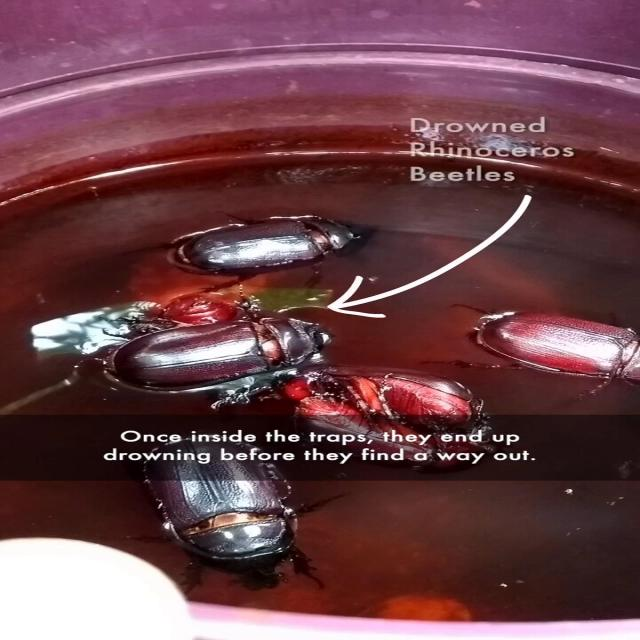Rhino-beetle: (142, 198, 411, 276), (107, 306, 333, 395), (138, 482, 339, 582), (471, 299, 640, 380), (322, 372, 488, 422)
